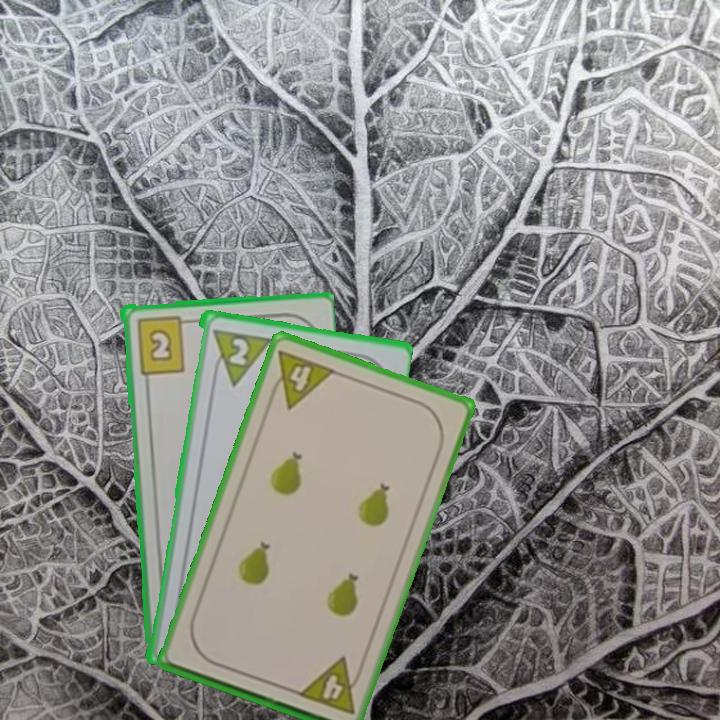2b: (132, 312, 194, 376)
2p: (207, 324, 271, 388)
4p: (264, 346, 338, 412), (294, 653, 366, 717)
